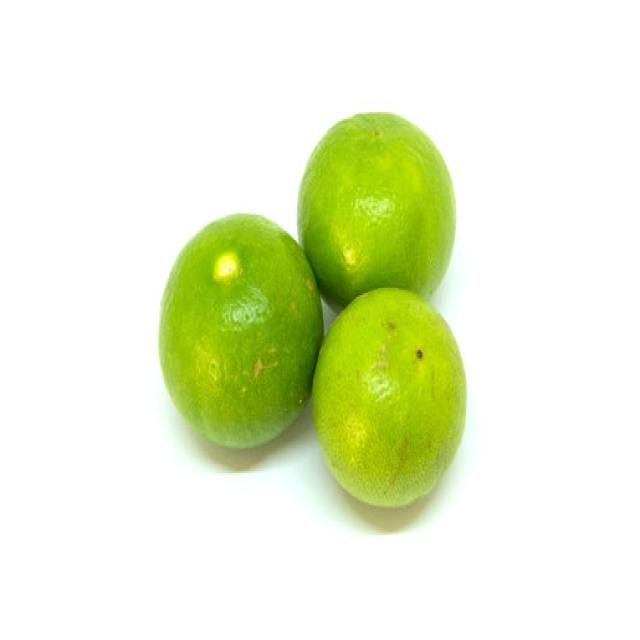Lemon: (157, 210, 323, 450), (311, 284, 466, 508), (296, 109, 456, 308)
